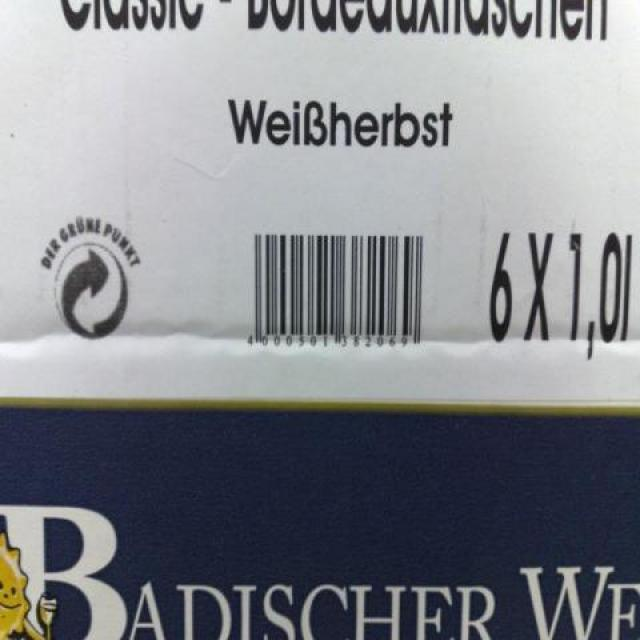Barcode: (242, 225, 431, 358)
